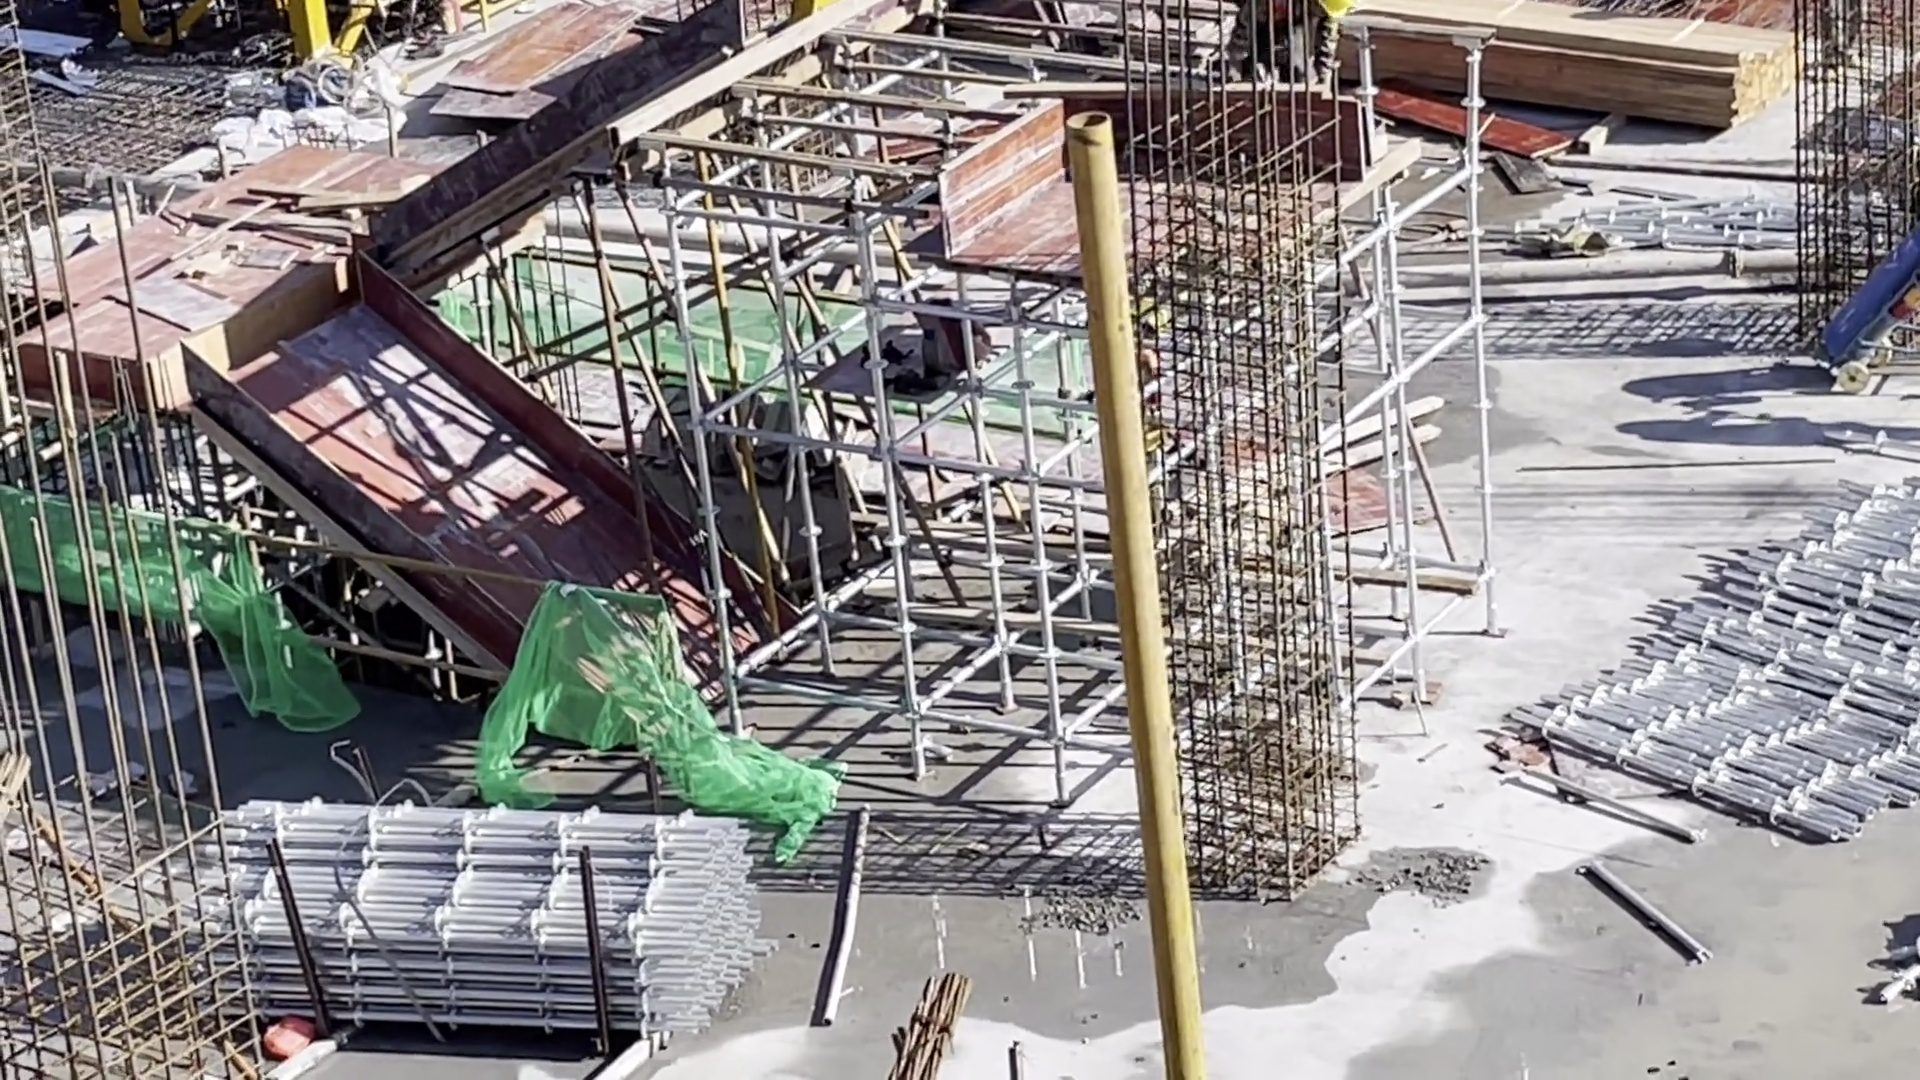person: (1232, 1, 1348, 90)
scaffold: (191, 781, 776, 1038), (1511, 482, 1920, 844)
wood: (1352, 2, 1796, 131)
